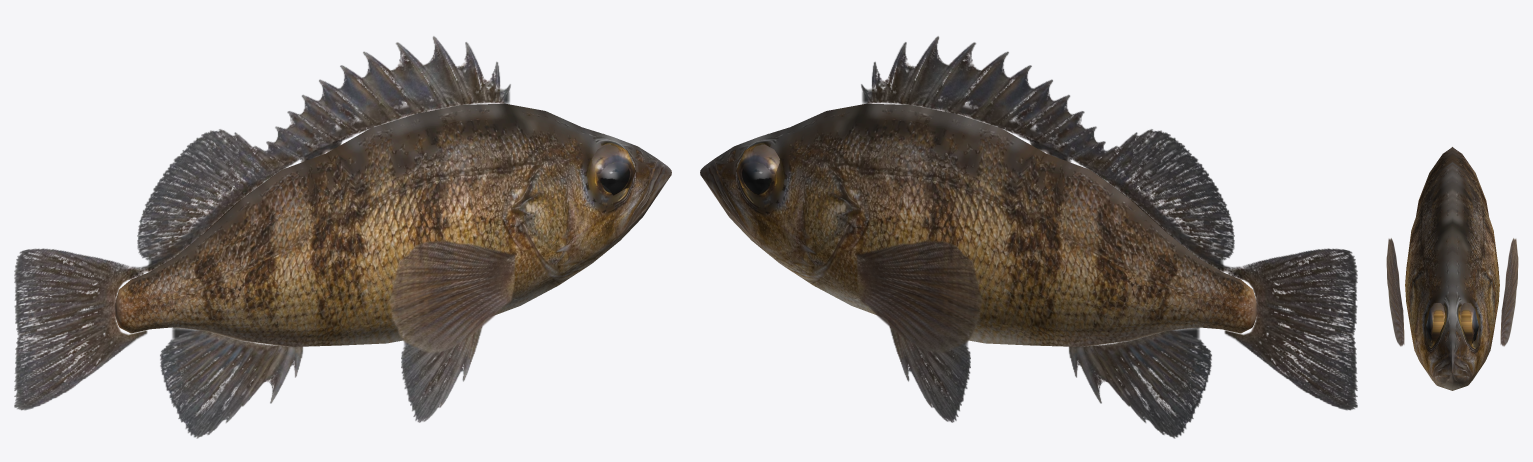
Rendered from mebaru_lo.glb.
3 views of the same model, side by side, from view 1: azimuth 30°, elevation 25°; view 2: azimuth 150°, elevation 25°; view 3: azimuth 270°, elevation 25° (orthographic). The views are drawn at different scales.
Parts seen in each view (by area): view 1: mebaru; view 2: mebaru; view 3: mebaru.
Part boxes in pixels (x1,y1,x2,y2): mebaru: [14, 36, 671, 438]; mebaru: [700, 36, 1357, 438]; mebaru: [1386, 147, 1518, 390].
Size of the model in its own units: 0.2203 by 0.1238 by 0.0492.
Materials: 1 (1 with a texture image).
